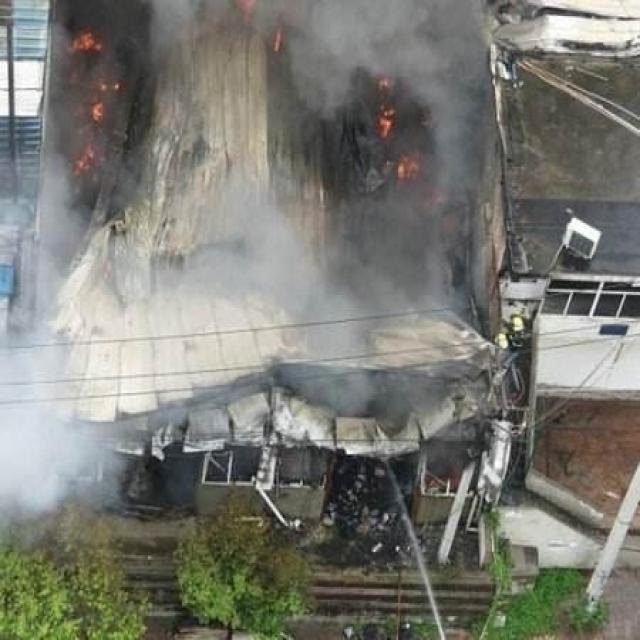Fire: (67, 27, 128, 179), (375, 105, 438, 206)
Smoke: (2, 191, 490, 523), (128, 0, 526, 93)
